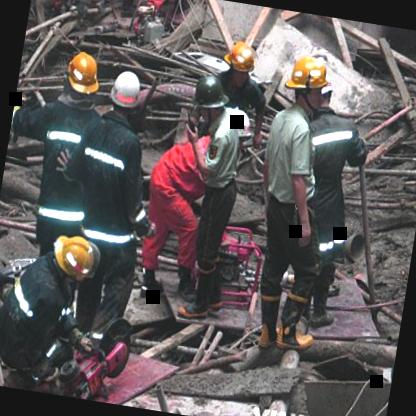helmet: (44, 233, 100, 286), (281, 52, 331, 110), (61, 50, 105, 105), (189, 72, 232, 122), (220, 37, 257, 88), (106, 69, 144, 116)
